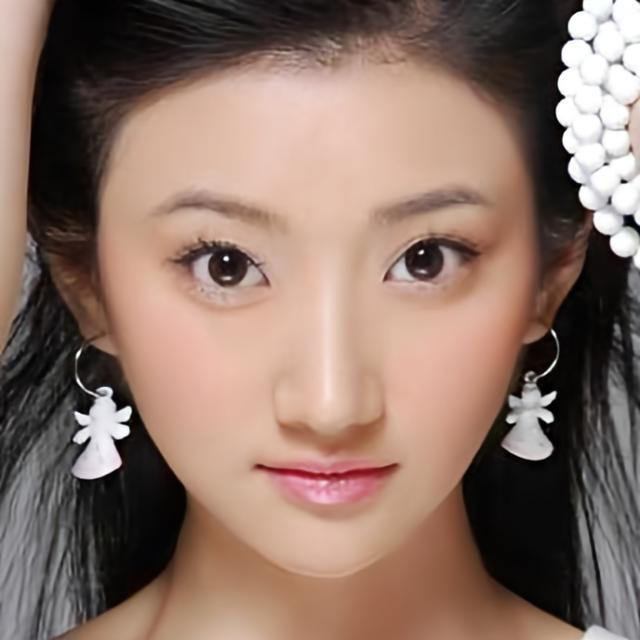neutral: (110, 32, 530, 575)
